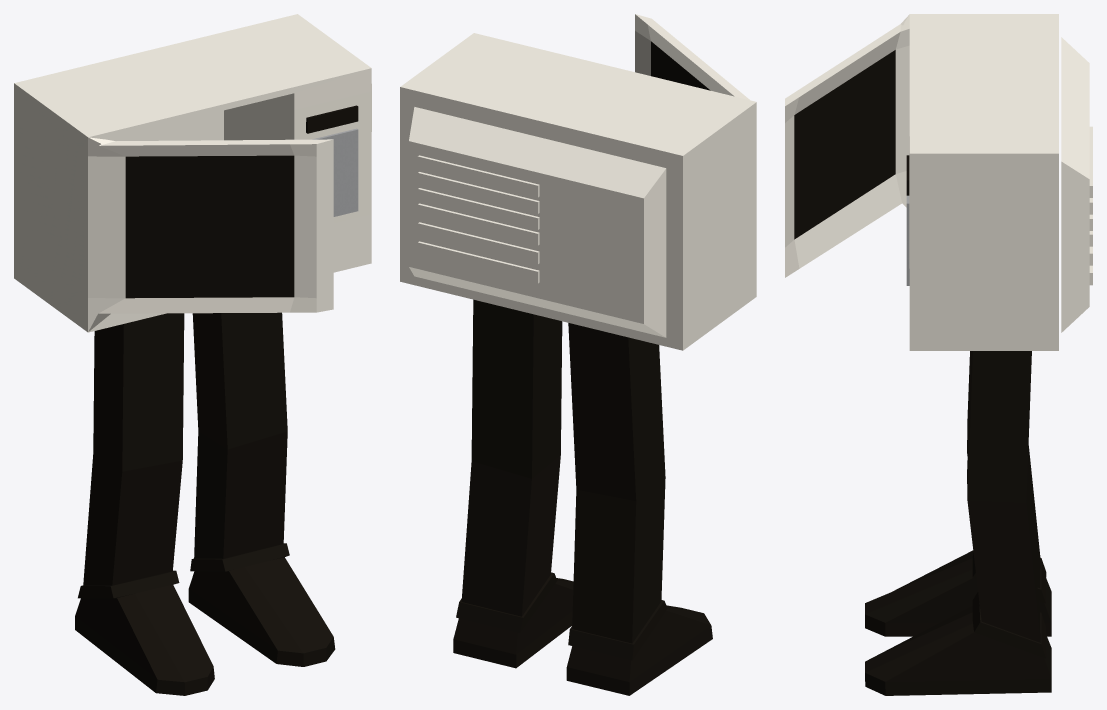
Rendered from MicrowaveMan.fbx.
3 views of the same model, side by side, from view 1: azimuth 30°, elevation 25°; view 2: azimuth 150°, elevation 25°; view 3: azimuth 270°, elevation 25° (orthographic).
Visible parts, largest first — view 1: Cube, Cube.003; view 2: Cube, Cube.003; view 3: Cube, Cube.003.
Boxes of the visible parts, x1,y1,x2,y2 form: Cube: [14, 14, 371, 332]; Cube.003: [75, 312, 335, 695]; Cube: [400, 14, 756, 350]; Cube.003: [453, 299, 712, 695]; Cube: [785, 14, 1092, 350]; Cube.003: [865, 351, 1051, 695].
Size of the model in its own units: 471 by 890 by 439.
